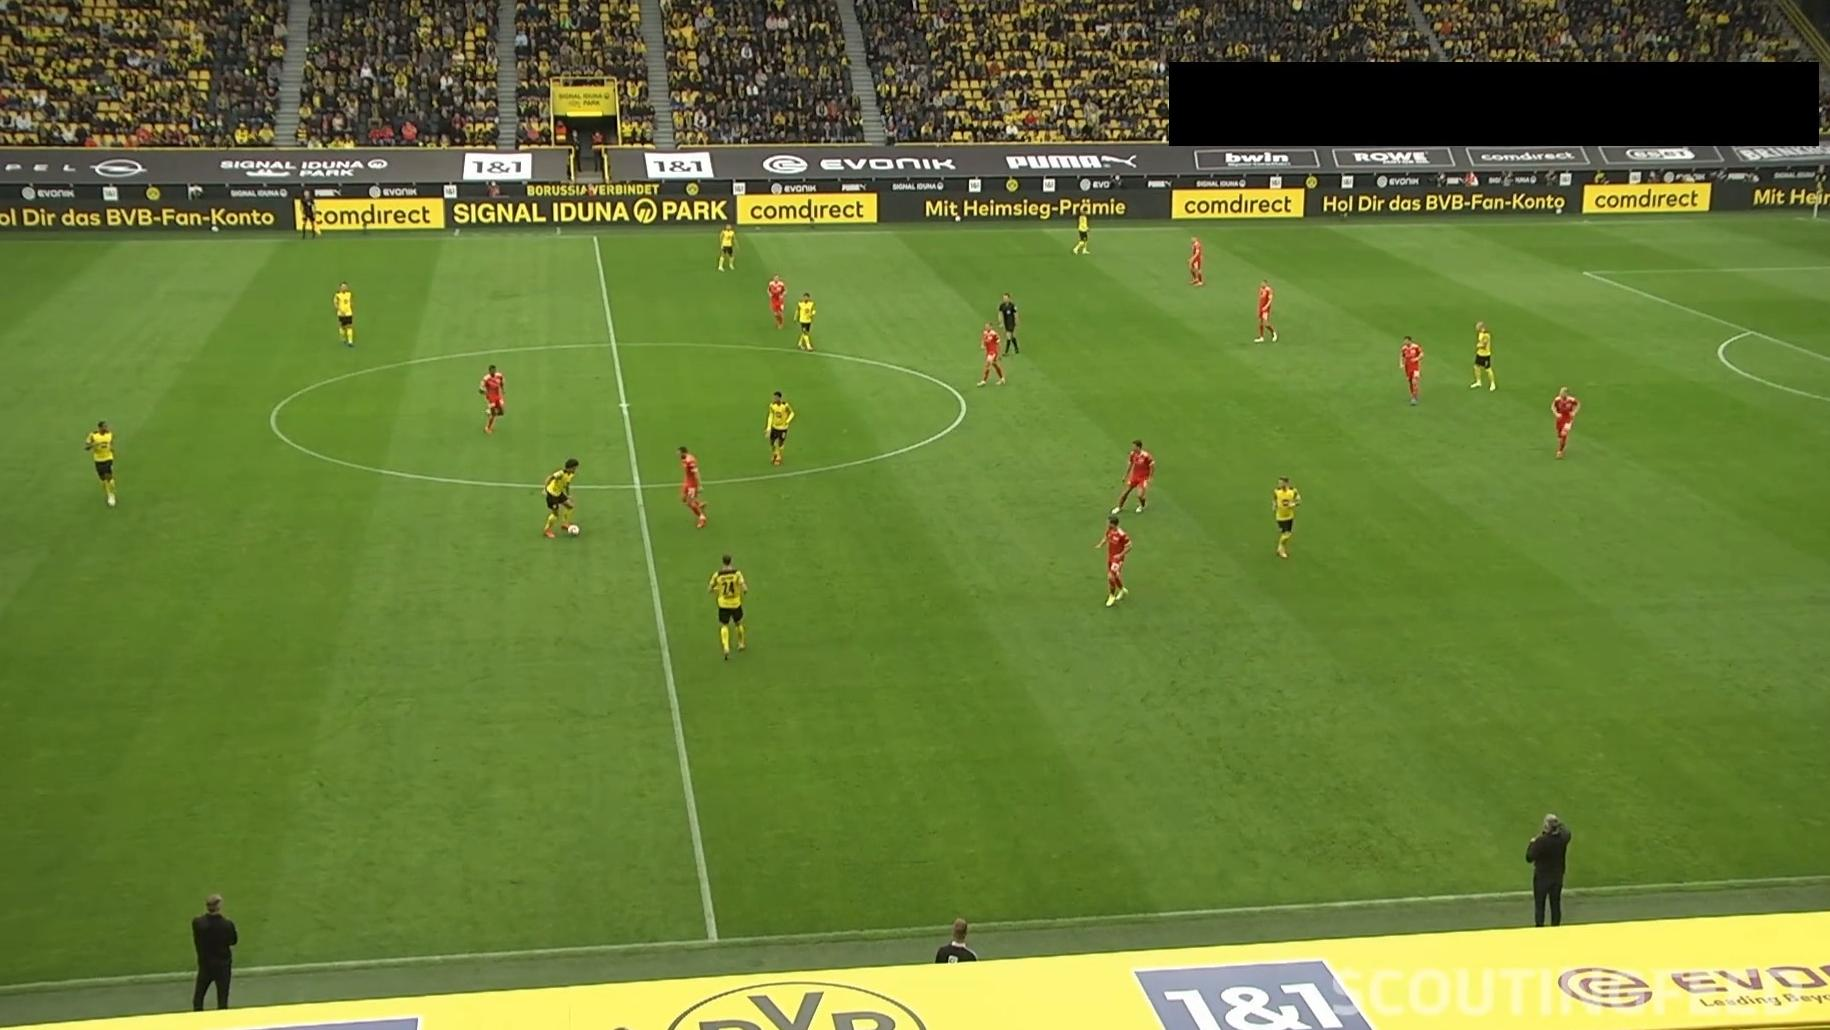ball: (567, 523, 581, 538)
